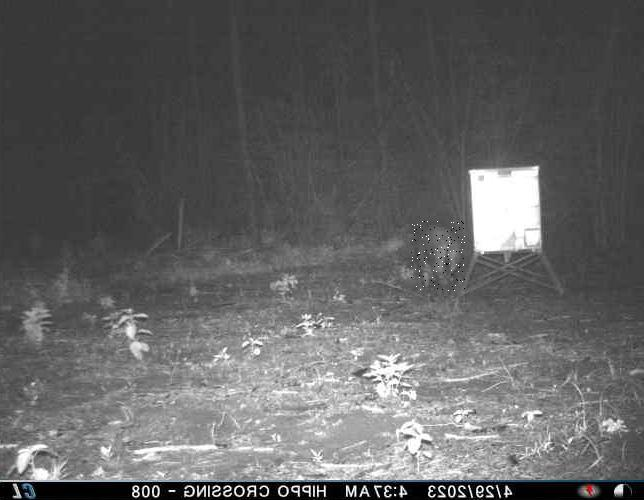Hog: (410, 221, 464, 291)
